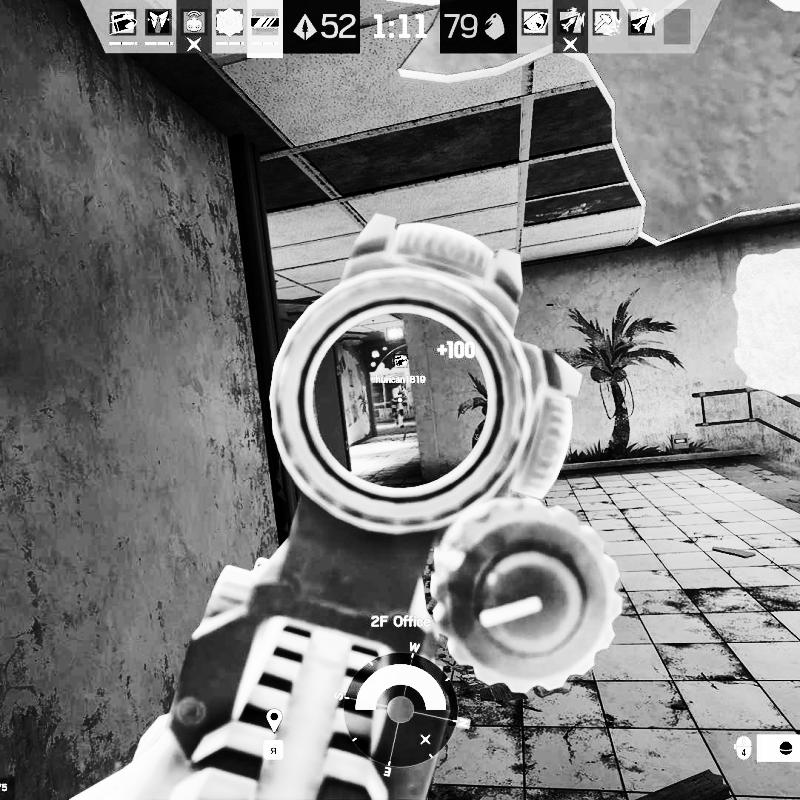Character: (386, 383, 412, 431)
Friend_label: (375, 352, 428, 384)
Head: (398, 384, 406, 392)
